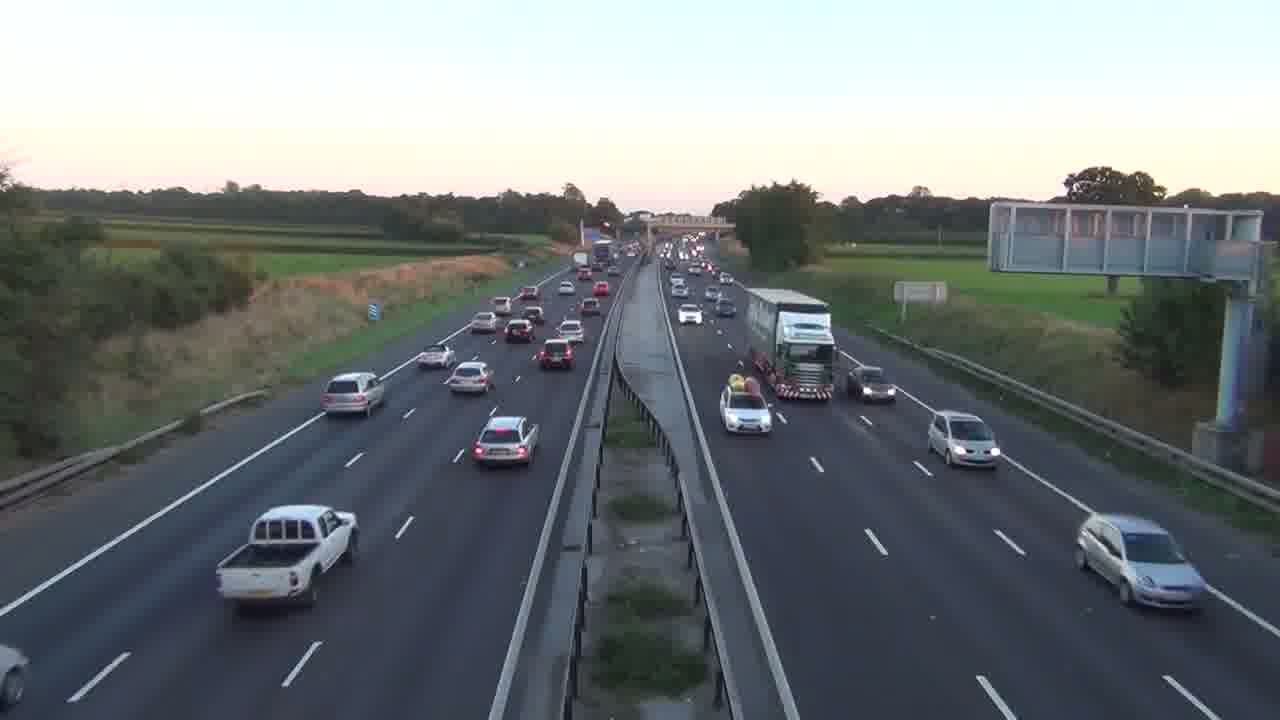bus: (744, 286, 835, 402)
car: (1075, 511, 1206, 612), (927, 410, 1002, 469), (472, 415, 541, 468), (319, 370, 386, 417), (719, 385, 773, 436), (0, 643, 32, 709), (444, 360, 494, 395), (534, 338, 575, 371), (415, 346, 454, 370), (504, 319, 533, 343), (593, 280, 610, 295)
truck: (214, 503, 358, 610)
